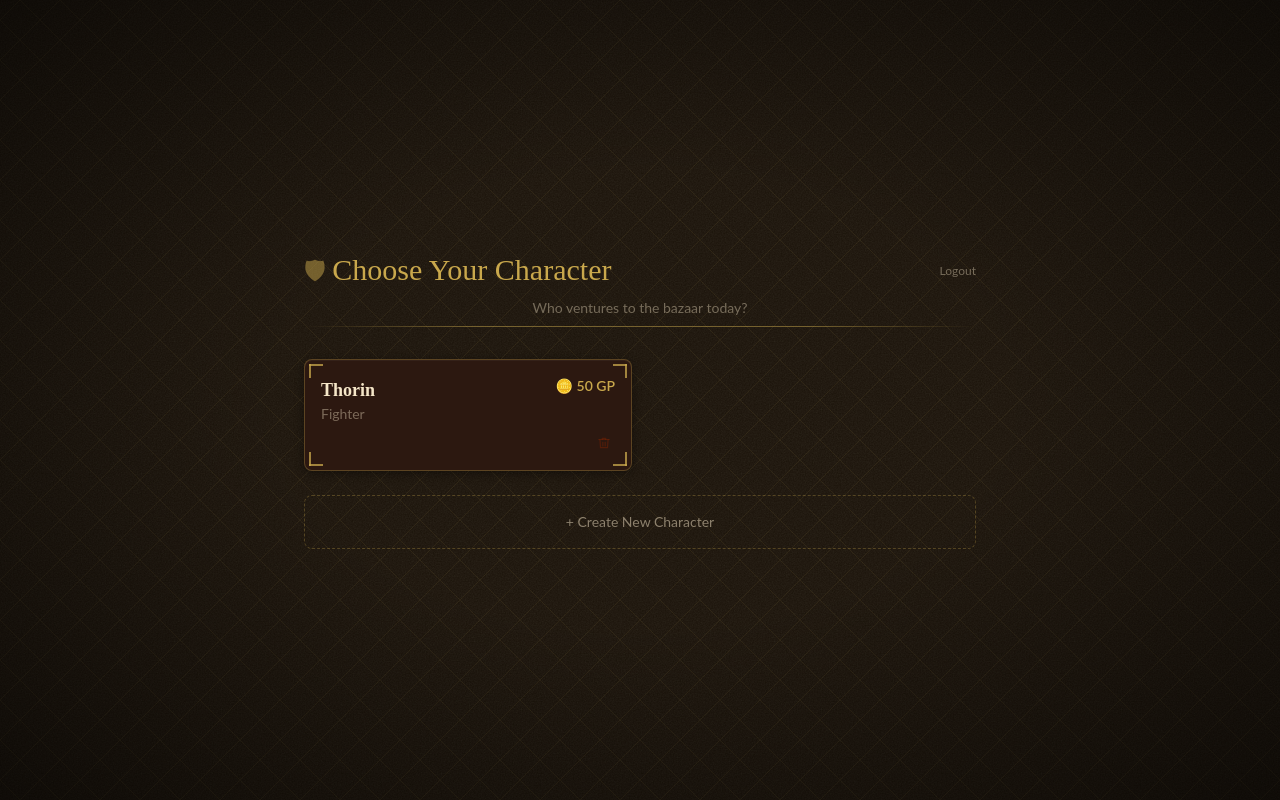
it: CharacterSelectPage › shows error for duplicate character name
Click the button "+ Create New Character" at (640, 522), box [304,494,976,548]
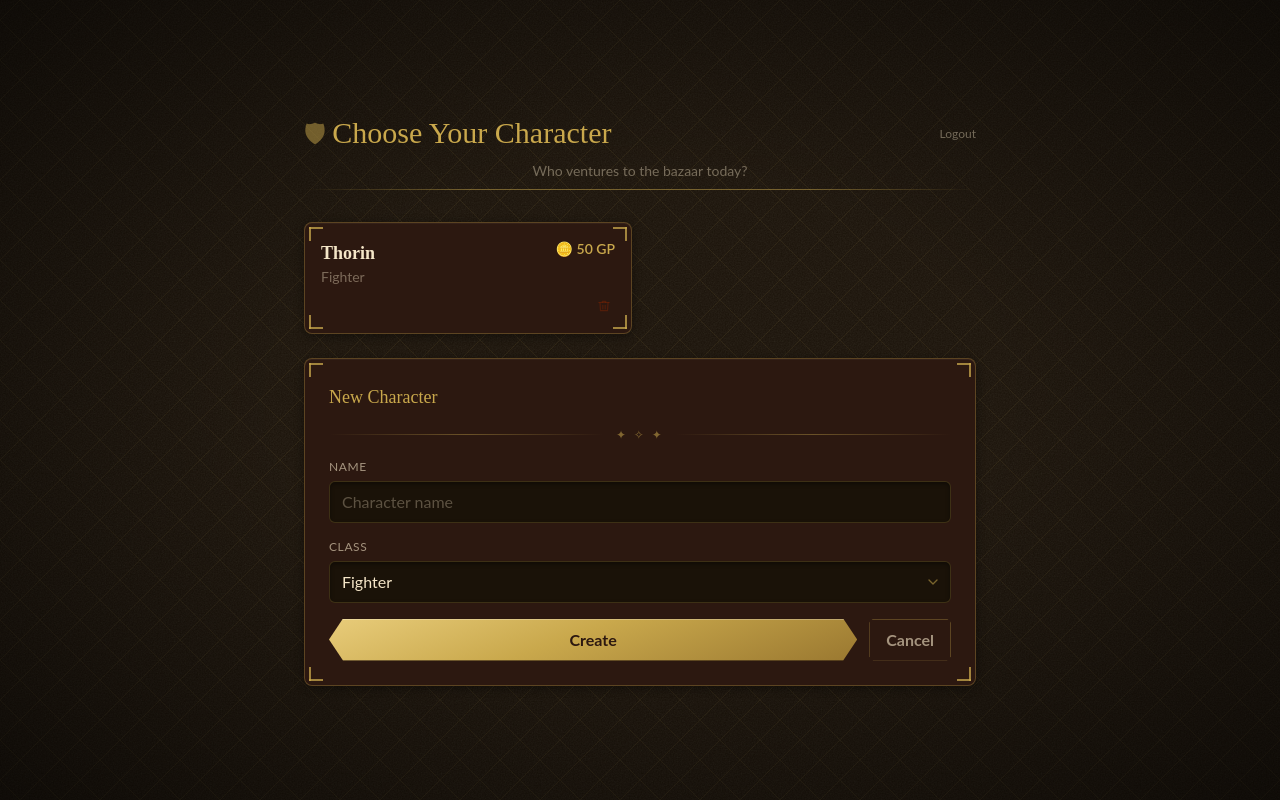
Type "Thorin" into the field with placeholder "Character name" at (640, 502), box [329,480,951,522]
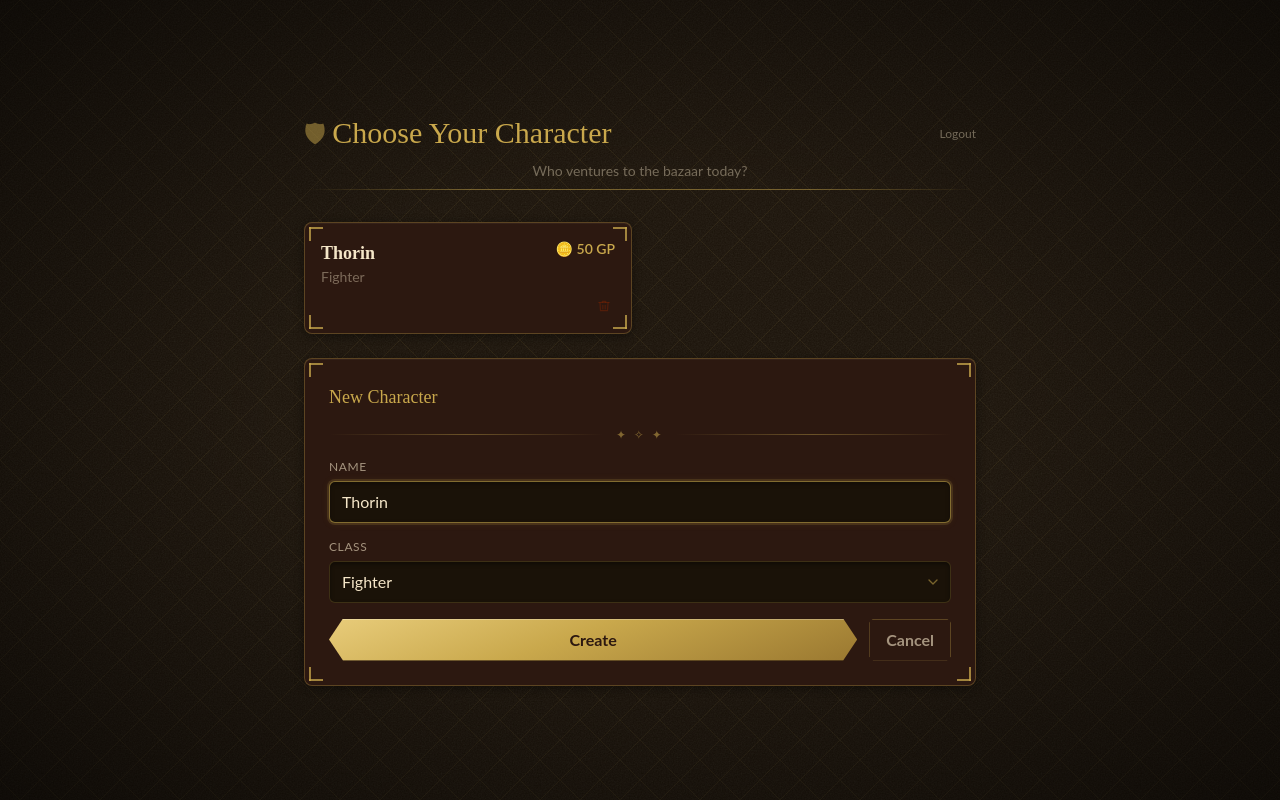
Click the button "Create" at (593, 640), box [329,618,857,660]
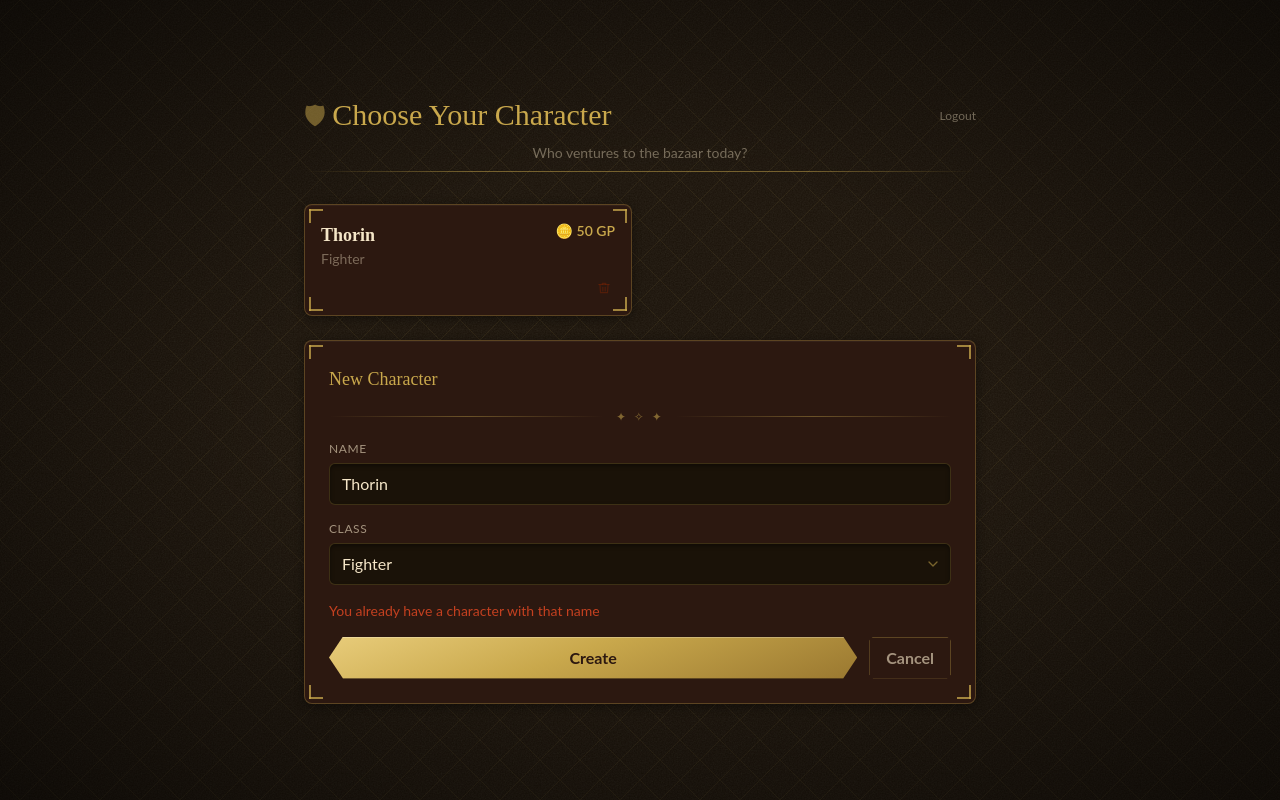
Now the text "You already have a character with that name" is shown, box [329,602,600,618]
